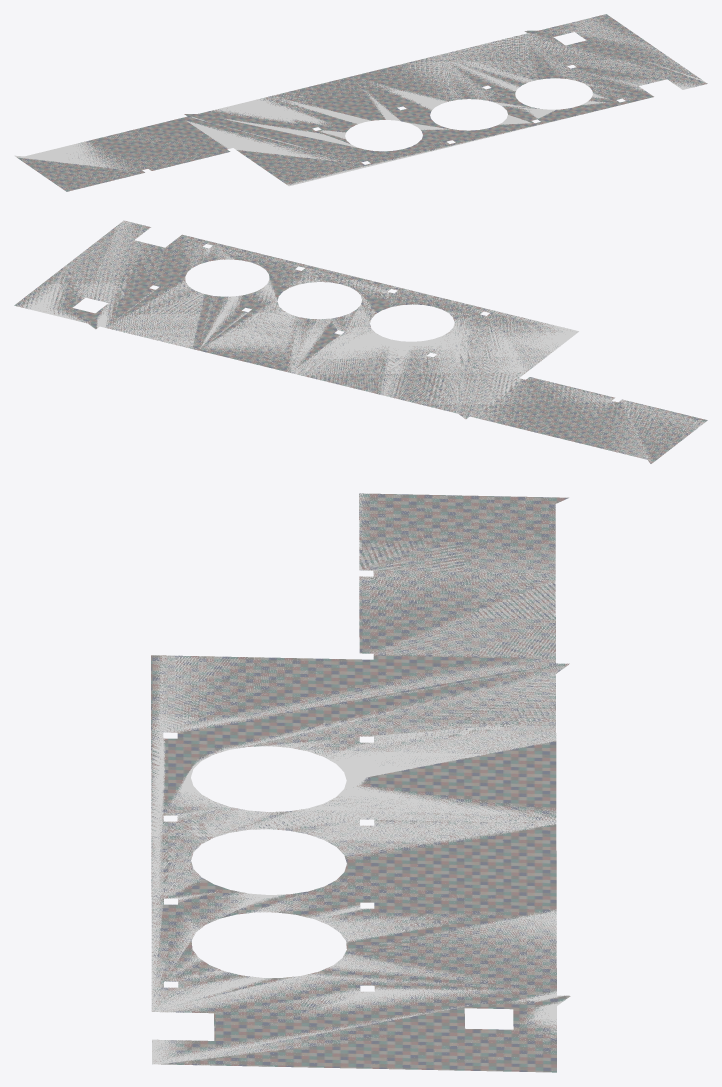
Rendered from fun_floor.fbx.
The picture shows the model from 3 angles, top to bottom: view 1: azimuth 30°, elevation 25°; view 2: azimuth 150°, elevation 25°; view 3: azimuth 270°, elevation 25°; orthographic projection. The views are drawn at different scales.
Parts seen in each view (by area): view 1: instance_0.001, instance_0.053; view 2: instance_0.001, instance_0.053; view 3: instance_0.001, instance_0.053.
Boxes of the visible parts, box(x1,y1,x2,y2) form: instance_0.001: box(17, 14, 707, 191); instance_0.053: box(14, 15, 706, 190); instance_0.001: box(14, 220, 707, 463); instance_0.053: box(15, 220, 705, 463); instance_0.001: box(151, 493, 570, 1072); instance_0.053: box(151, 493, 569, 1065).
Size of the model in its own units: 8732 by 62.21 by 2695.
